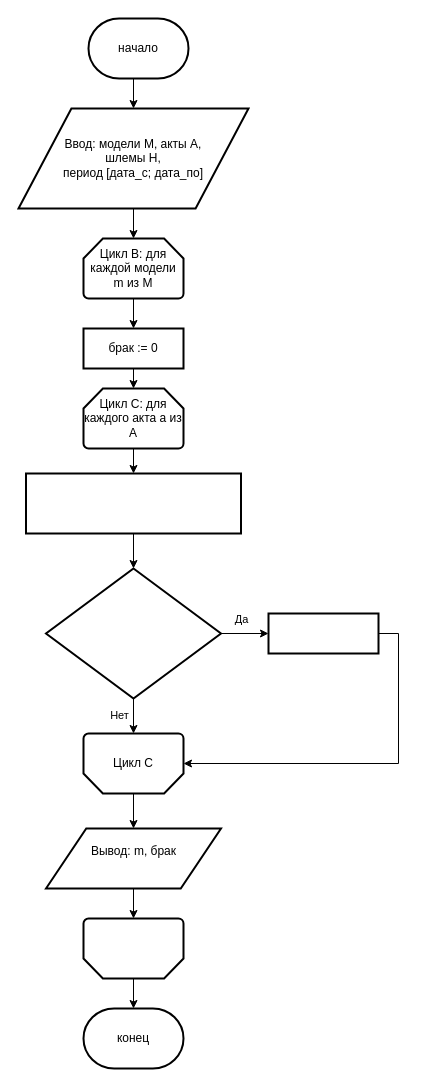
The diagram is 424 pixels wide and 1086 high, and some of its shapes have lost their labels. The centre of each missing label's shape, as x and y in pixels:
брак := брак + 1: the point at 323,633
модель_акта := модель шлема a.серийный_номер из H: the point at 133,503
модель_акта = m и a.дата в периоде и a.решение = «брак»?: the point at 133,633
Цикл B: the point at 133,948
